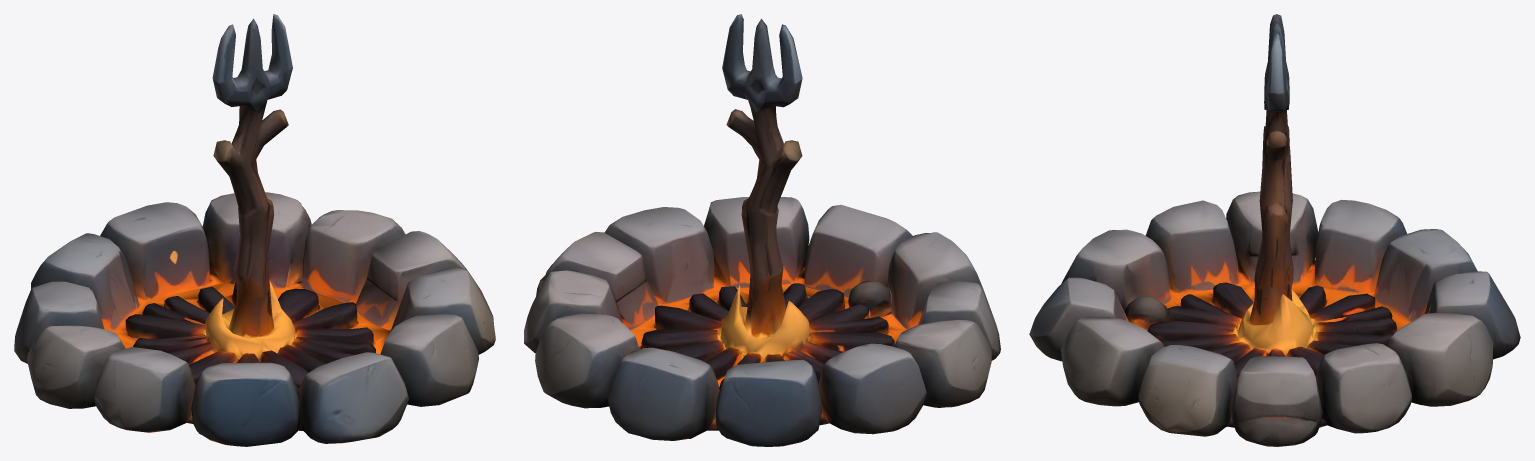
Rendered from goblinfire.opt.glb.
The picture shows the model from 3 angles, left to right: view 1: azimuth 30°, elevation 25°; view 2: azimuth 150°, elevation 25°; view 3: azimuth 270°, elevation 25°; orthographic projection. The views are drawn at different scales.
Parts seen in each view (by area): view 1: node_0; view 2: node_0; view 3: node_0.
Boxes of the visible parts, bbox=[...] form: node_0: bbox=[14, 14, 495, 446]; node_0: bbox=[524, 14, 1000, 446]; node_0: bbox=[1029, 14, 1520, 446].
Size of the model in its own units: 0.9789 by 0.7108 by 0.98.
Materials: 1 (1 with a texture image).
